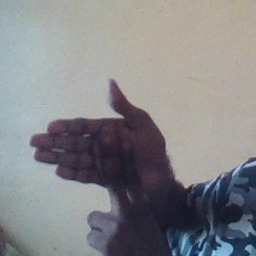N: (27, 74, 180, 241)
